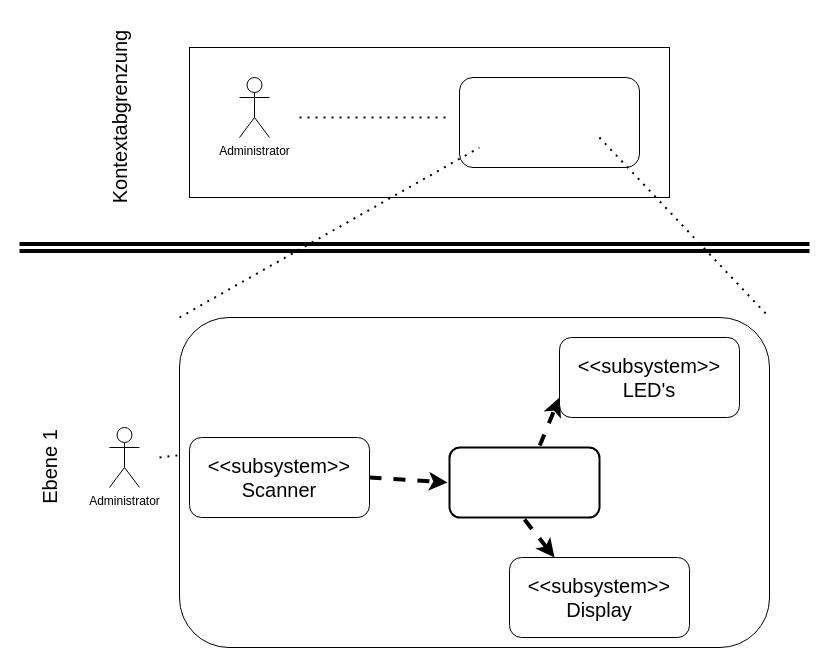
Image size: 828x665. Some labels were removed from this diagram. The shapes that lost their labels are listed below. From the top down, each one's centre as x and y in pixels, then its label:
the point at 549,122: System
the point at 524,482: <<subsystem>> Schnittstelle
